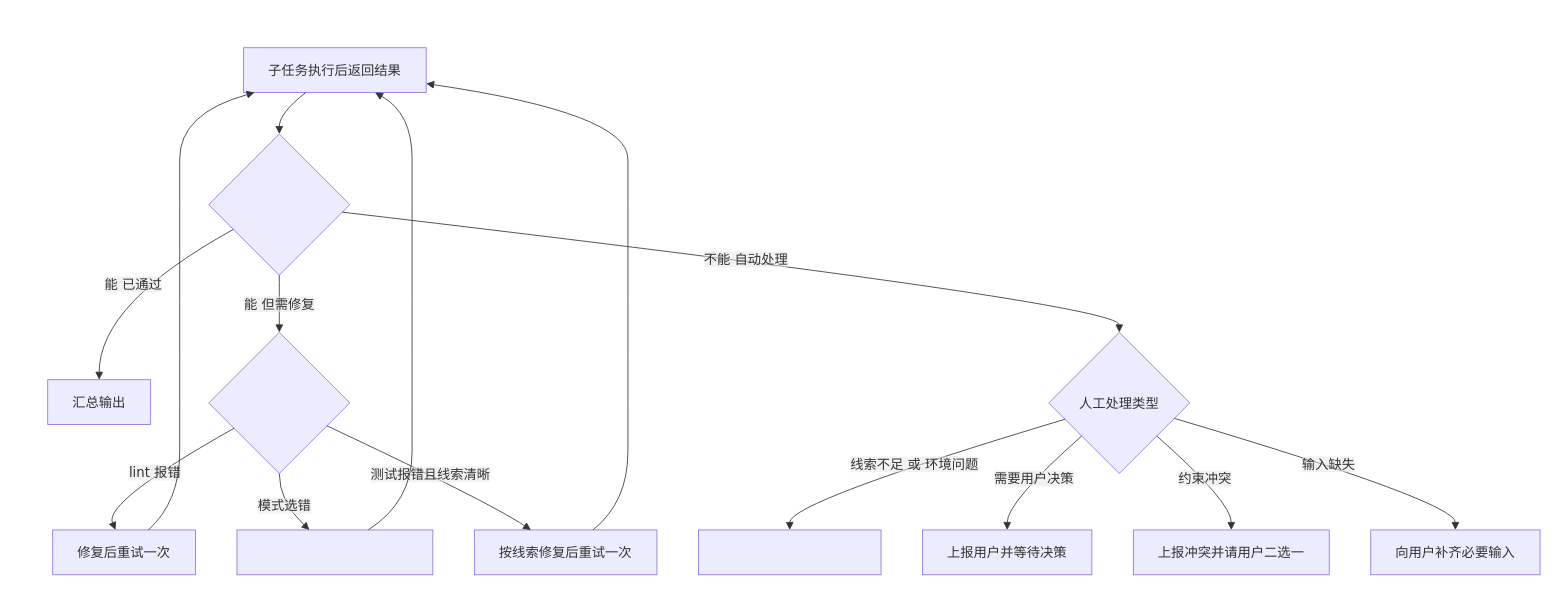
This 1555x589 diagram has some shape labels left out. The shapes that lost their labels are listed below. From the top down, each one's centre as x and y in pixels, then its label:
At point 279,204: "能否自动处理".
At point 279,403: "自动修复类型".
At point 334,552: "切到正确模式后重试一次".
At point 789,552: "上报用户并附错误信息".
